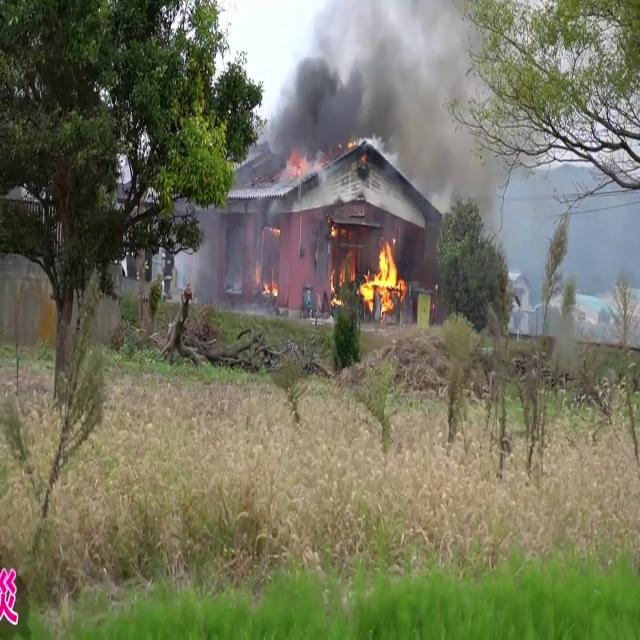Fire: (356, 237, 406, 313)
Smoke: (254, 0, 494, 195)
